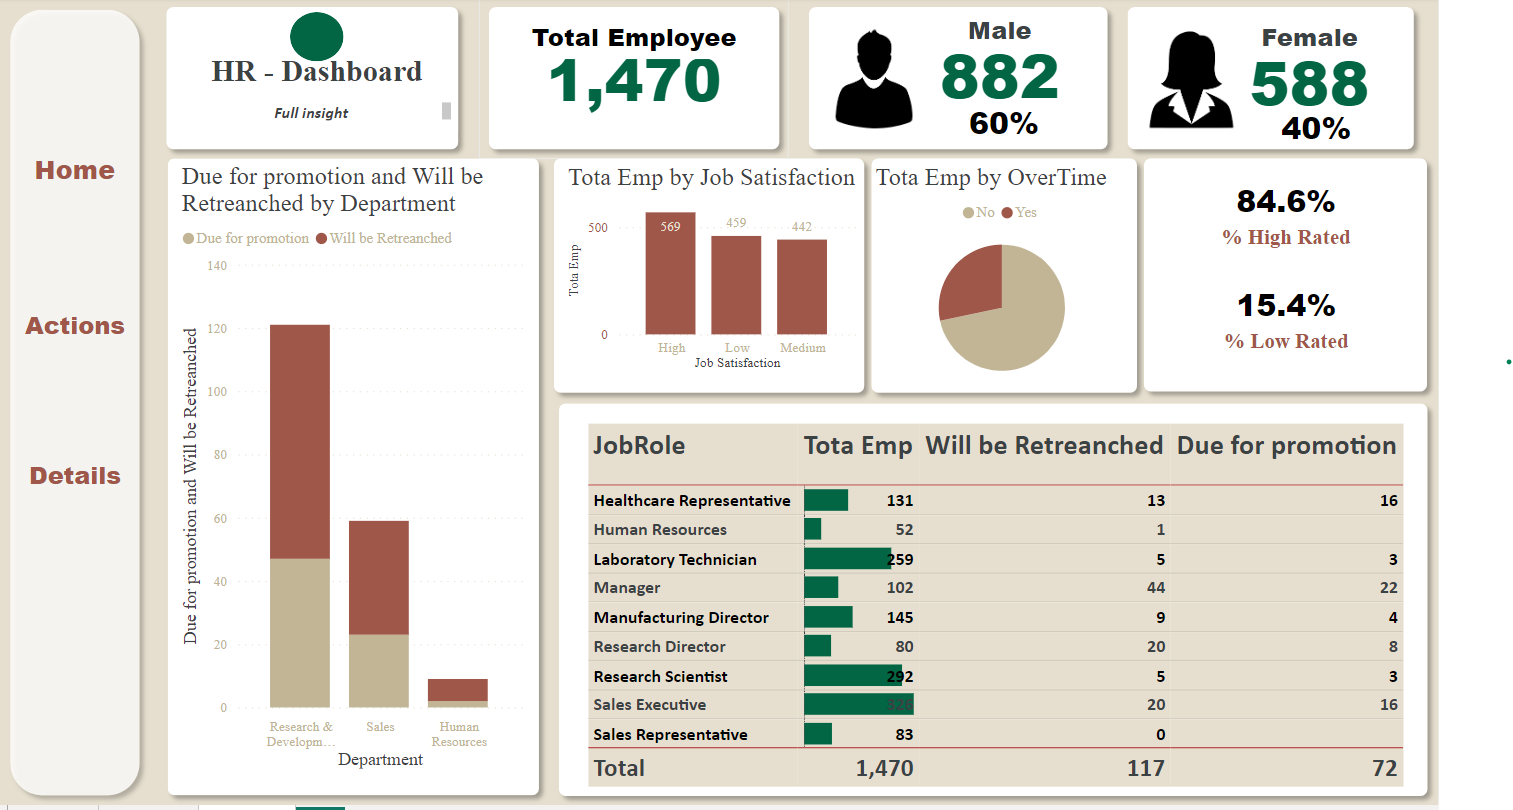

The page's visual inventory and layout, read from the dashboard file:
{"tool":"powerbi","page":{"name":"Details","canvas":[1280,720],"ordinal":2},"visuals":[{"type":"shape","box":[139.5,0,277.8,144.4],"z":0},{"type":"shape","box":[425.9,0,276.5,144.4],"z":1000},{"type":"shape","box":[711.1,0,284,144.4],"z":2000},{"type":"shape","box":[995.1,0,272.8,144.4],"z":3000},{"type":"textbox","box":[156.5,45.2,250.6,44],"z":4000},{"type":"textbox","box":[216.4,89.2,190.7,25.7],"z":5000},{"type":"shape","box":[257.9,13.4,47.7,44],"z":6000},{"type":"card","title":"Total Employee","fields":{"Values":["All measure's.Tota Emp"]},"box":[458,19.8,212.3,88.9],"z":7000},{"type":"card","title":"Male","fields":{"Values":["All measure's.Male"]},"box":[795.1,13.6,191.4,95.1],"z":8000},{"type":"card","title":"Female","fields":{"Values":["All measure's.Female"]},"box":[1084,19.8,164.2,93.8],"z":9000},{"type":"card","fields":{"Values":["All measure's.% male"]},"box":[817.3,92.6,154.3,40.7],"z":10000},{"type":"card","fields":{"Values":["All measure's.% Female"]},"box":[1102.5,98.8,138.3,35.8],"z":11000},{"type":"image","box":[728.4,23.5,98.8,98.8],"z":12000},{"type":"image","box":[1009.9,22.2,102.5,102.5],"z":13000},{"type":"shape","box":[0,2.4,133.2,717.6],"z":14000},{"type":"shape","box":[139.9,135.1,348.5,584.9],"z":15000},{"type":"columnChart","fields":{"Category":["HR Analytics Data.Department"],"Y":["All measure's.Due for promotion","All measure's.Will be Retreanched"]},"box":[156.8,147.1,313.6,545.1],"z":16000},{"type":"shape","box":[483.6,135.1,294.3,226.7],"z":17000},{"type":"shape","box":[767,135.1,254.5,226.7],"z":18000},{"type":"columnChart","fields":{"Category":["HR Analytics Data.Job Satisfaction"],"Y":["All measure's.Tota Emp"]},"box":[500.5,148.3,266.5,189.3],"z":19000},{"type":"pieChart","fields":{"Y":["All measure's.Tota Emp"],"Category":["HR Analytics Data.OverTime"]},"box":[774.3,148.3,235.2,203.8],"z":20000},{"type":"shape","box":[1009.4,135.1,270.2,225.5],"z":21000},{"type":"shape","box":[488.8,352.5,791.2,367.5],"z":22000},{"type":"tableEx","fields":{"Values":["HR Analytics Data.JobRole","All measure's.Tota Emp","All measure's.Will be Retreanched","All measure's.Due for promotion"]},"box":[517.5,375,755,345],"z":23000},{"type":"card","fields":{"Values":["All measure's.% High Rated"]},"box":[1022.5,152.5,245,80],"z":24000},{"type":"card","fields":{"Values":["All measure's.% Low Rated"]},"box":[1057.5,247.5,176.2,76.2],"z":25000},{"type":"actionButton","box":[16.2,133.8,100,40],"z":26000},{"type":"actionButton","box":[16.2,271.2,100,40],"z":27000},{"type":"actionButton","box":[16.2,405,100,40],"z":28000}]}

Visuals, with their boxes on the page's 1280x720 design canvas (x1, y1, x2, y2). These are canvas units, not pixel positions in the 1513x810 screenshot, which may show the page scaled, cropped or inside an application window:
shape: bbox(140, 0, 417, 144)
shape: bbox(426, 0, 702, 144)
shape: bbox(711, 0, 995, 144)
shape: bbox(995, 0, 1268, 144)
textbox: bbox(156, 45, 407, 89)
textbox: bbox(216, 89, 407, 115)
shape: bbox(258, 13, 306, 57)
"Total Employee" card: bbox(458, 20, 670, 109)
"Male" card: bbox(795, 14, 986, 109)
"Female" card: bbox(1084, 20, 1248, 114)
card - All measure's.% male: bbox(817, 93, 972, 133)
card - All measure's.% Female: bbox(1102, 99, 1241, 135)
image: bbox(728, 24, 827, 122)
image: bbox(1010, 22, 1112, 125)
shape: bbox(0, 2, 133, 720)
shape: bbox(140, 135, 488, 720)
columnChart - HR Analytics Data.Department x All measure's.Due for promotion: bbox(157, 147, 470, 692)
shape: bbox(484, 135, 778, 362)
shape: bbox(767, 135, 1022, 362)
columnChart - HR Analytics Data.Job Satisfaction x All measure's.Tota Emp: bbox(500, 148, 767, 338)
pieChart - All measure's.Tota Emp x HR Analytics Data.OverTime: bbox(774, 148, 1010, 352)
shape: bbox(1009, 135, 1280, 361)
shape: bbox(489, 352, 1280, 720)
tableEx - HR Analytics Data.JobRole x All measure's.Tota Emp: bbox(518, 375, 1272, 720)
card - All measure's.% High Rated: bbox(1022, 152, 1268, 232)
card - All measure's.% Low Rated: bbox(1058, 248, 1234, 324)
actionButton: bbox(16, 134, 116, 174)
actionButton: bbox(16, 271, 116, 311)
actionButton: bbox(16, 405, 116, 445)
